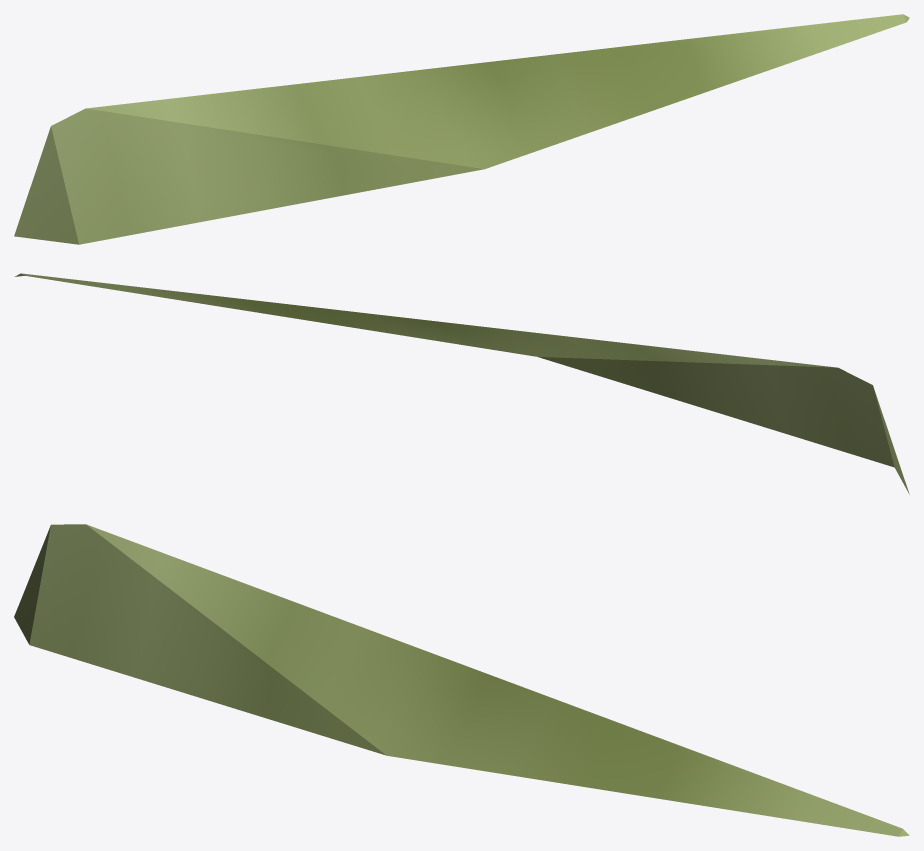
The picture shows the model from 3 angles, top to bottom: view 1: azimuth 30°, elevation 25°; view 2: azimuth 150°, elevation 25°; view 3: azimuth 330°, elevation 25°; orthographic projection.
Size of the model in its own units: 0.1695 by 0.02 by 0.016.
1 material, 1 textured.
